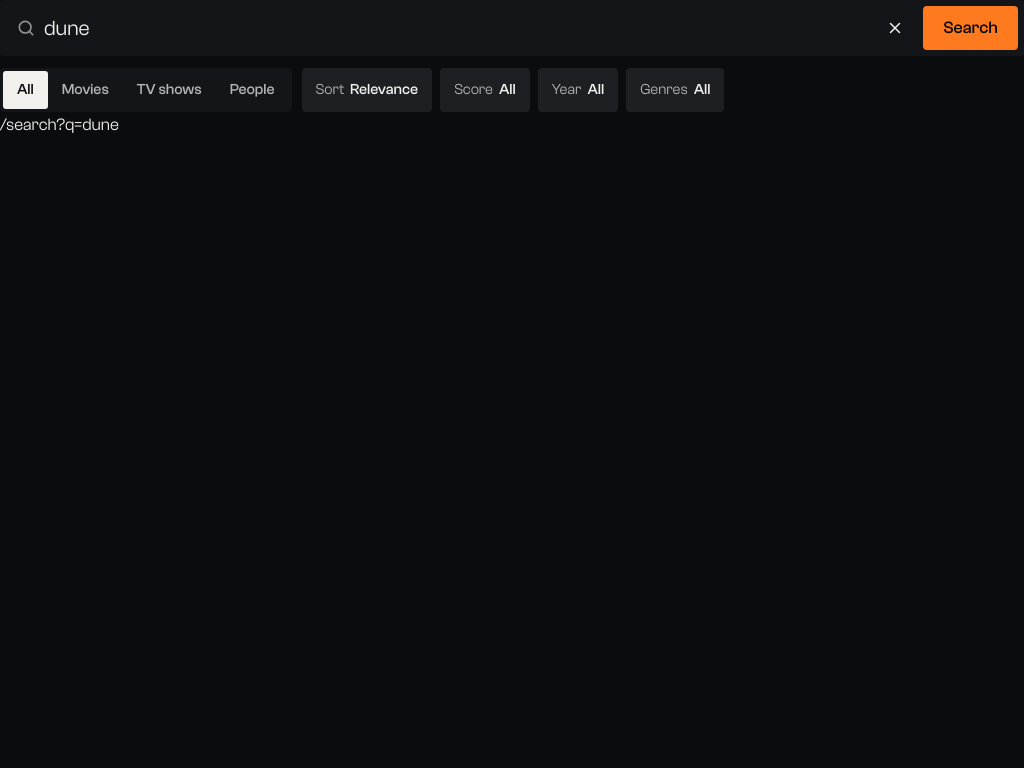
Search filters › sets the year from its popup
Click the button "Year All".
click(578, 90)  # box [538,68,618,112]
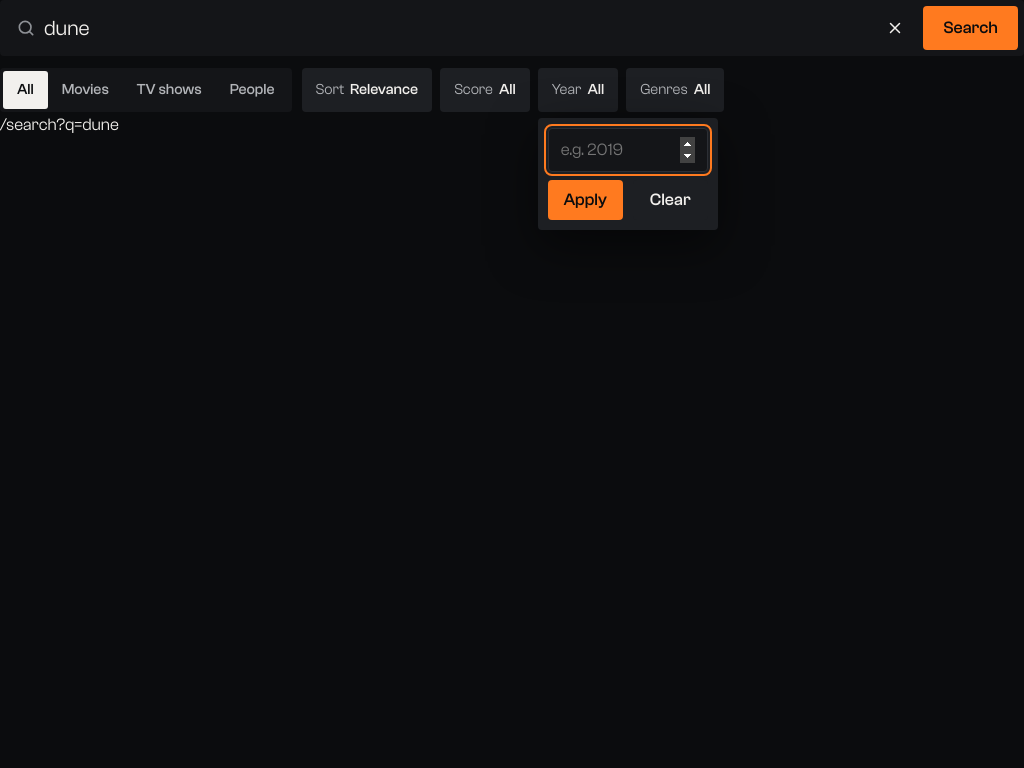
Type "2021" into the number field named "Release year".
click(628, 150); type("2021")  # box [548,128,708,172]
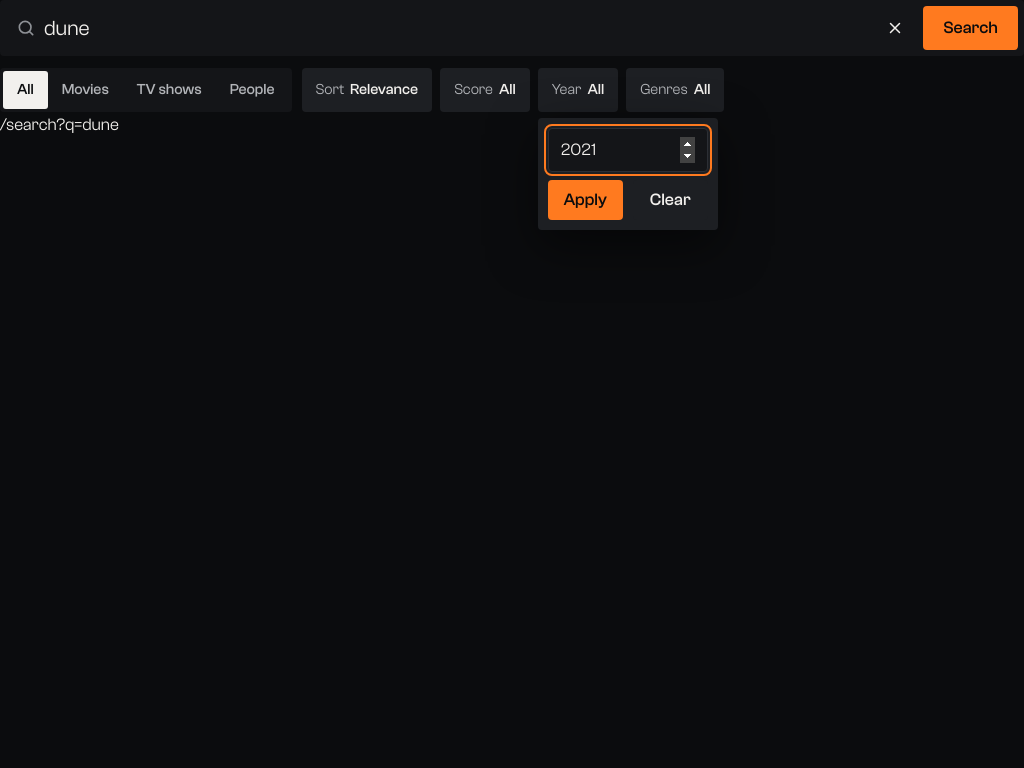
Press Enter in the number field named "Release year", box [548,128,708,172]
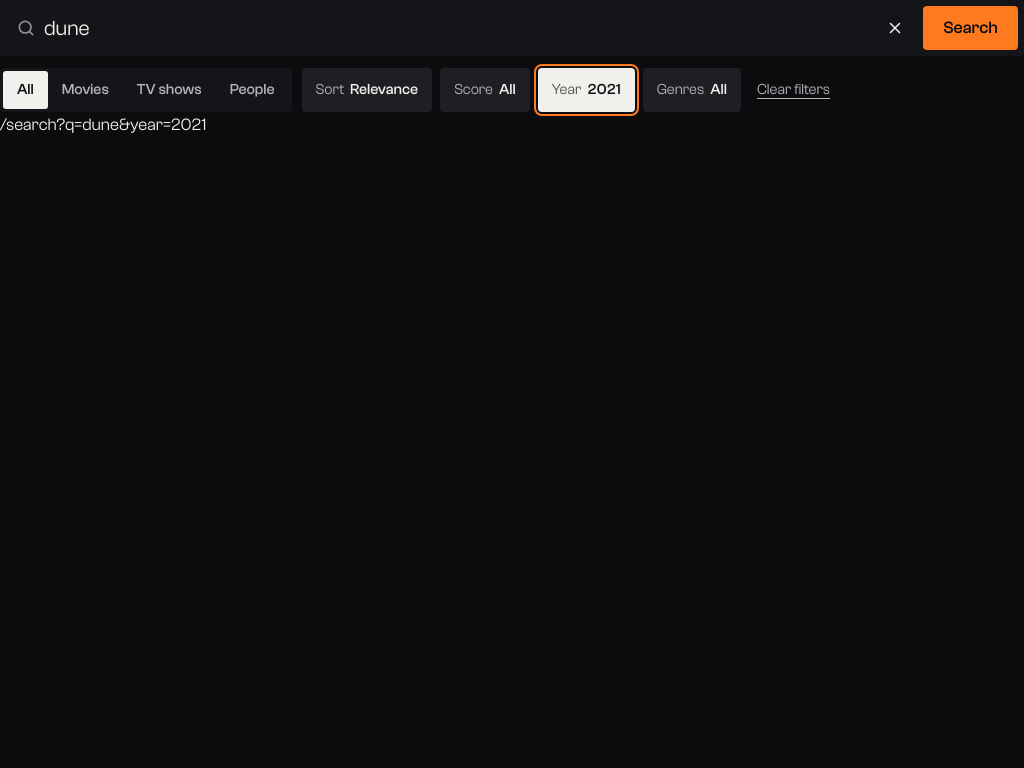
Check: the text with test id "location" reads "/search?q=dune&year=2021", box [0,115,206,134]
